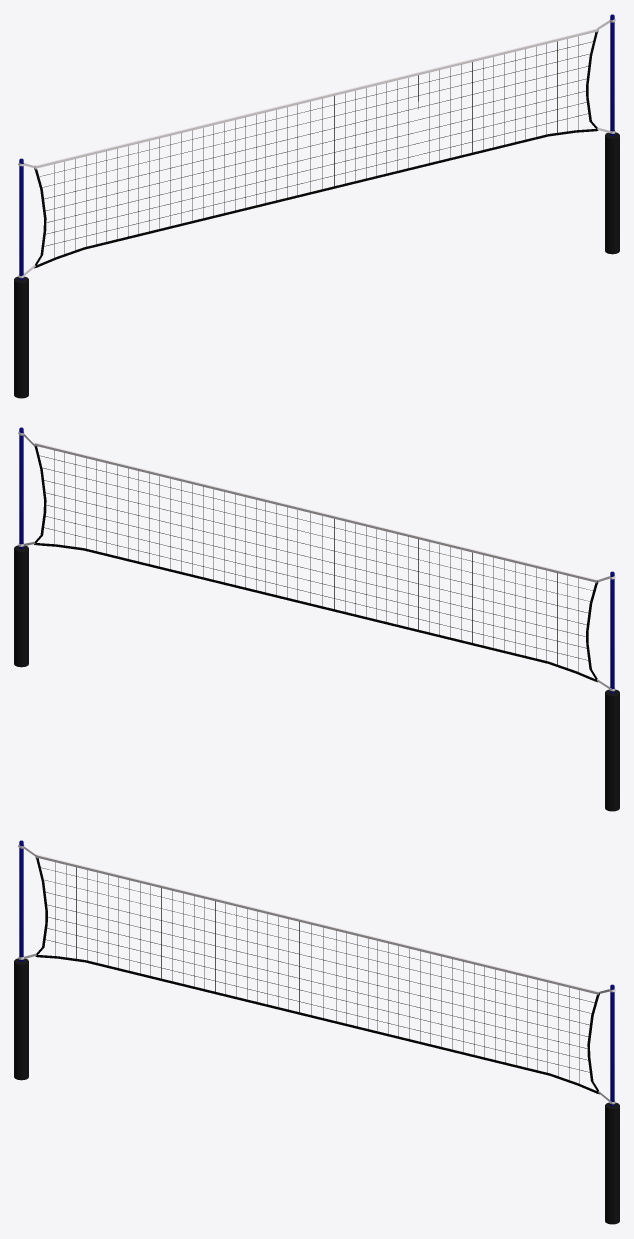
File: VolleyballNet.fbx
The picture shows the model from 3 angles, top to bottom: view 1: azimuth 30°, elevation 25°; view 2: azimuth 150°, elevation 25°; view 3: azimuth 330°, elevation 25°; orthographic projection.
Parts seen in each view (by area): view 1: Volleynet_LOD0; view 2: Volleynet_LOD0; view 3: Volleynet_LOD0.
Boxes of the visible parts, bbox=[...] form: Volleynet_LOD0: bbox=[14, 14, 619, 398]; Volleynet_LOD0: bbox=[14, 427, 619, 811]; Volleynet_LOD0: bbox=[14, 840, 619, 1224].
Size of what is drawn, in the model's own units: 587 by 219 by 12.67.
